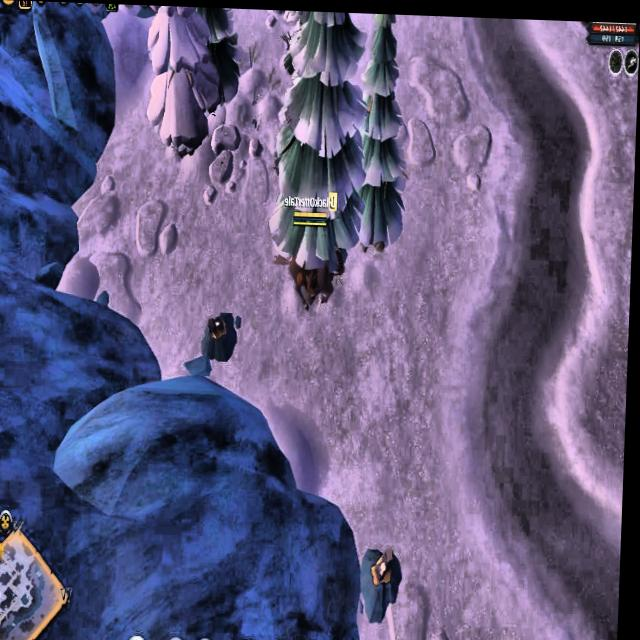copperore: (363, 543, 410, 614), (201, 304, 243, 365)
